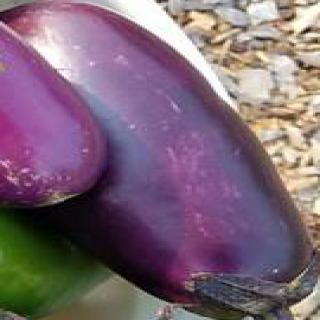eggplant: (0, 1, 320, 320)
